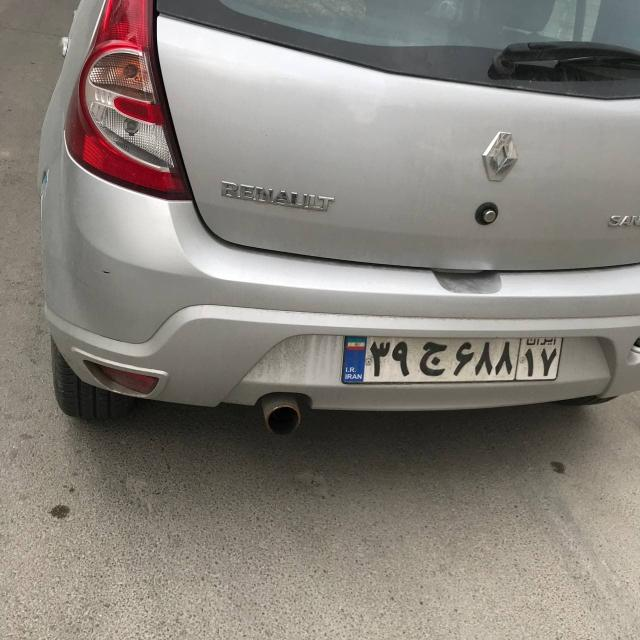Plates: (341, 336, 564, 384)
